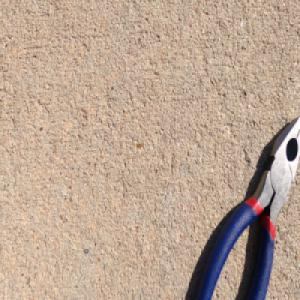Pliers: (192, 112, 300, 300)
